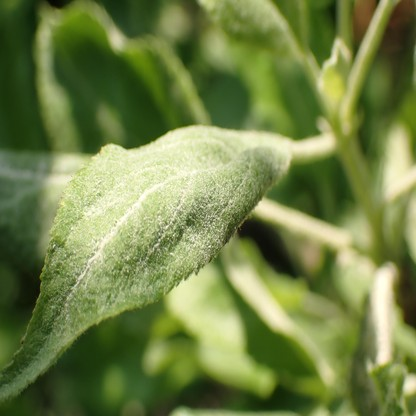powder: (43, 126, 294, 337)
